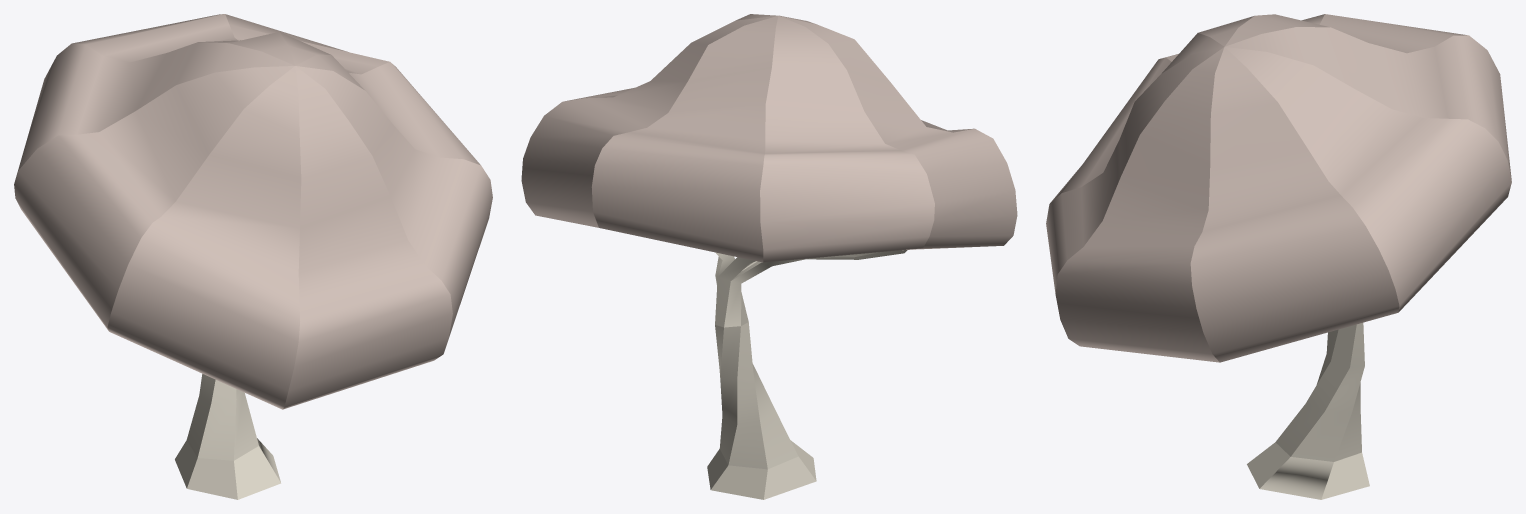
The model's file is Fairy_Shroom1.fbx.
The picture shows the model from 3 angles, left to right: view 1: azimuth 30°, elevation 25°; view 2: azimuth 150°, elevation 25°; view 3: azimuth 270°, elevation 25°; orthographic projection. The views are drawn at different scales.
Visible parts, largest first — view 1: Fairy_Shroom1; view 2: Fairy_Shroom1; view 3: Fairy_Shroom1.
Boxes of the visible parts, left/top/right/bottom form: Fairy_Shroom1: left=14, top=14, right=492, bottom=499; Fairy_Shroom1: left=521, top=14, right=1017, bottom=499; Fairy_Shroom1: left=1046, top=14, right=1511, bottom=499.
Bounding box in the file's own units: 936 × 965 × 914.
